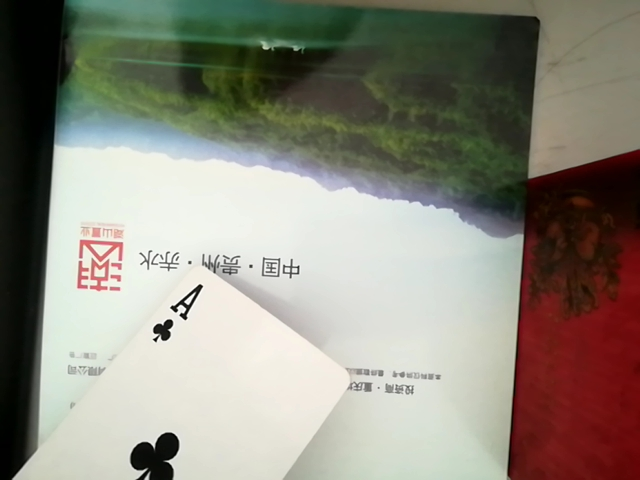mh a: (13, 254, 400, 478)
